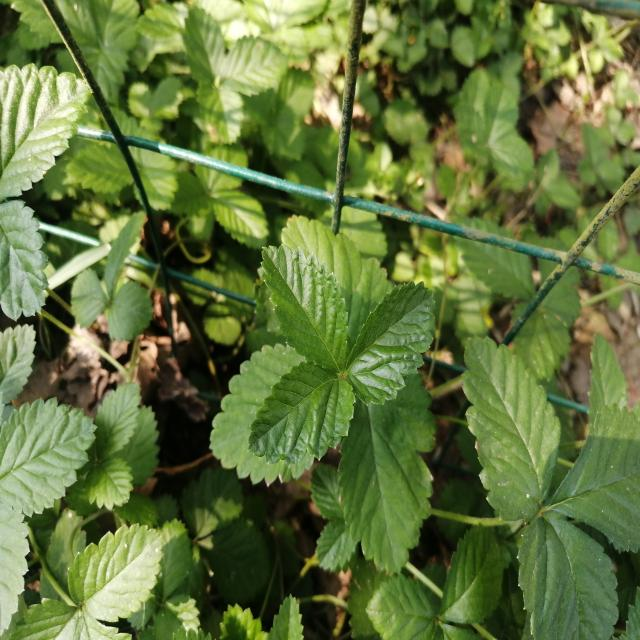Mock_strawberry: (229, 217, 434, 501)
